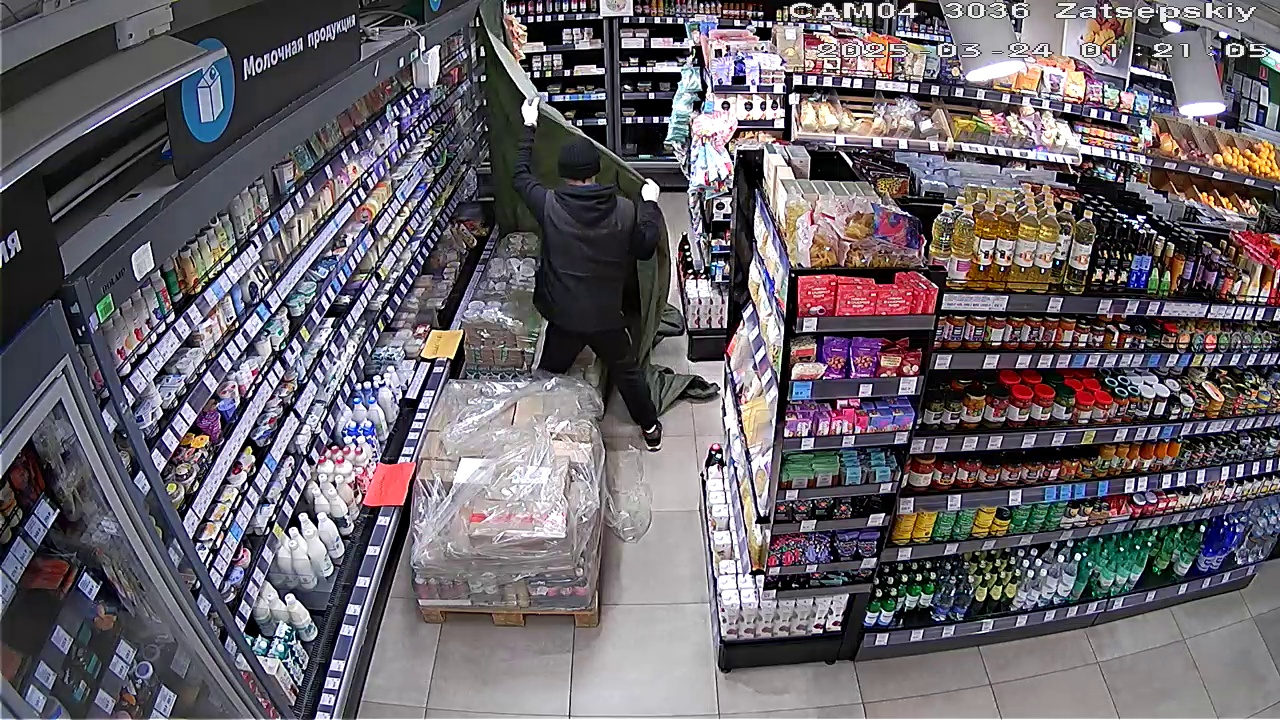Human: (507, 96, 662, 440)
pallet: (406, 376, 602, 625), (473, 231, 532, 364)
